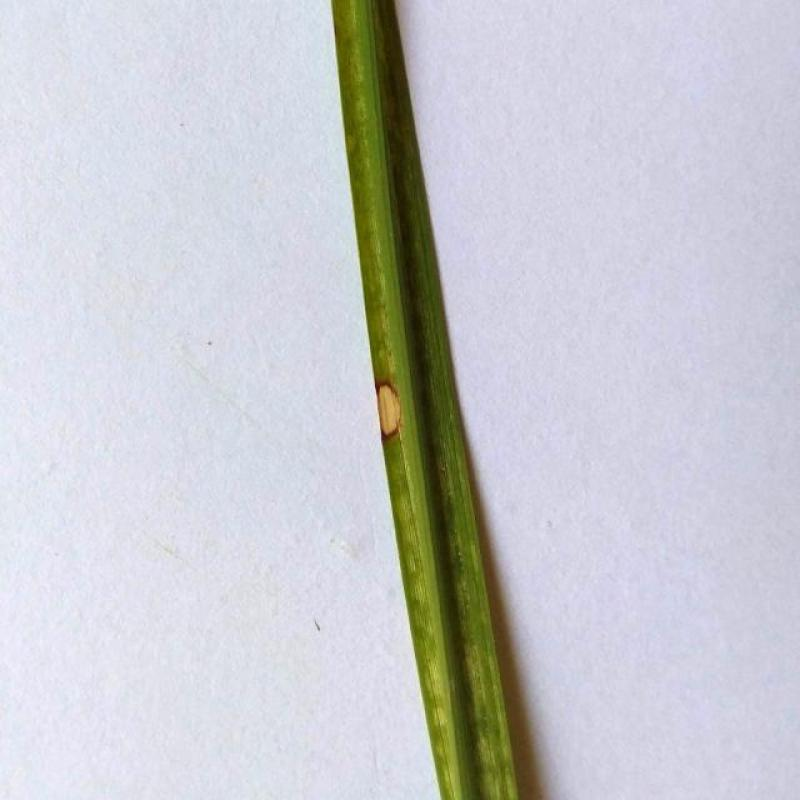Leaf_Blast: (358, 305, 438, 501)
